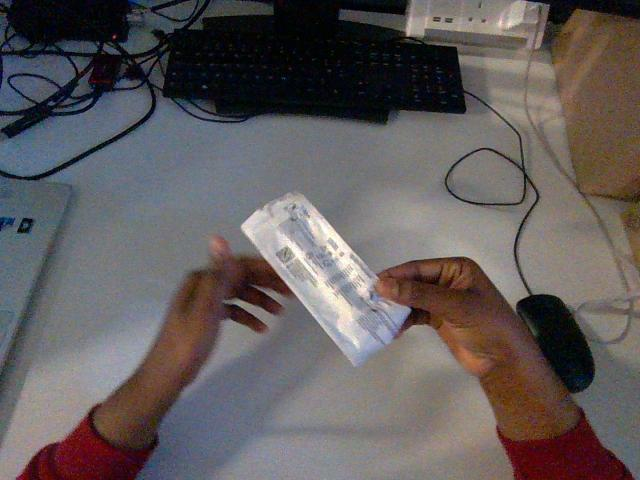syringe: (241, 192, 409, 365)
